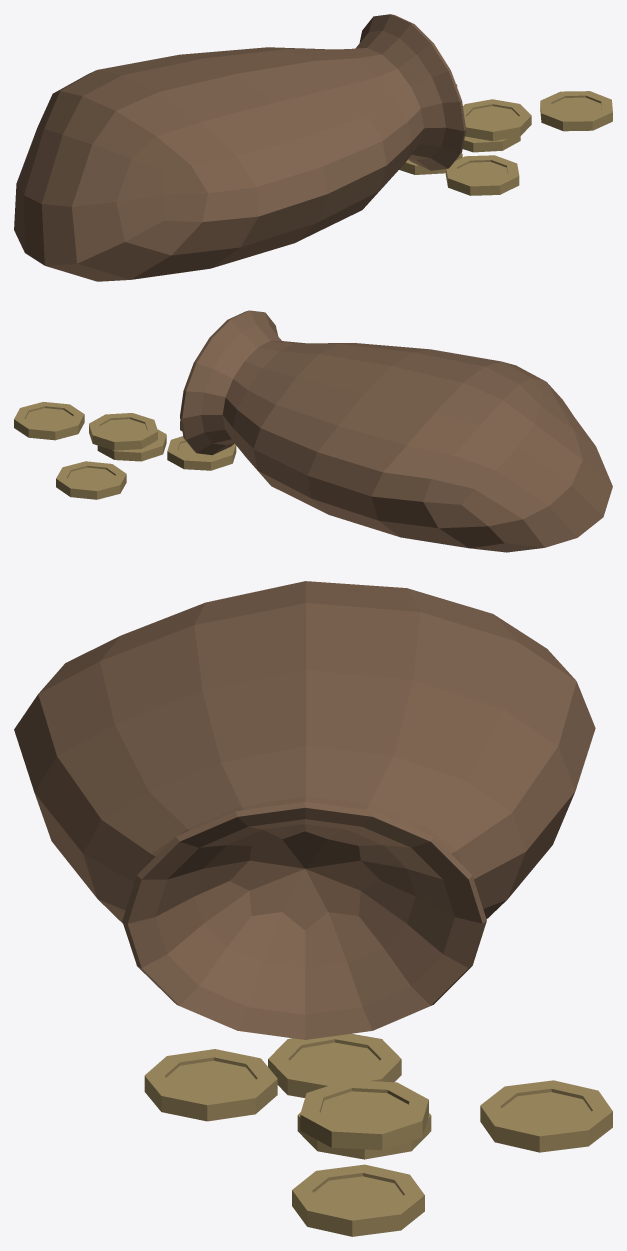
The model's file is Bag_Coins.glb.
The picture shows the model from 3 angles, top to bottom: view 1: azimuth 30°, elevation 25°; view 2: azimuth 150°, elevation 25°; view 3: azimuth 270°, elevation 25°; orthographic projection. The views are drawn at different scales.
Parts seen in each view (by area): view 1: Bag_Coins; view 2: Bag_Coins; view 3: Bag_Coins.
Part boxes in pixels (x1,y1,x2,y2): Bag_Coins: [14, 14, 612, 281]; Bag_Coins: [14, 310, 612, 552]; Bag_Coins: [14, 581, 612, 1236].
Size of the model in its own units: 0.442 by 0.1146 by 0.2222.
